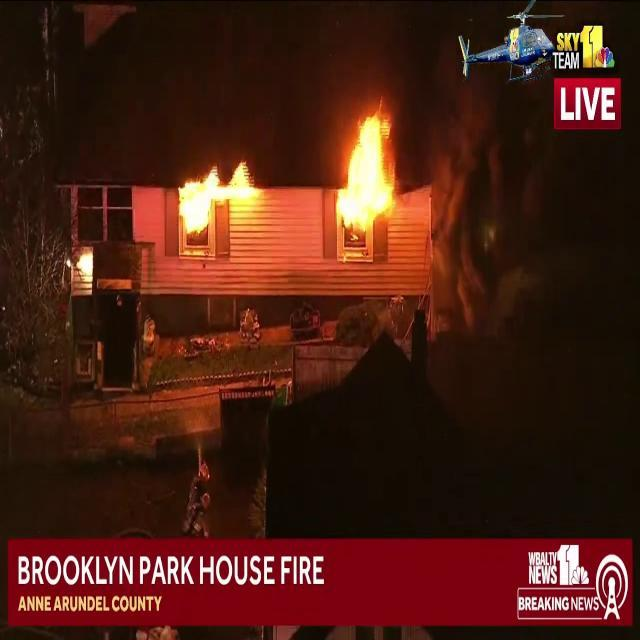Fire: (329, 100, 405, 234), (170, 158, 268, 236)
